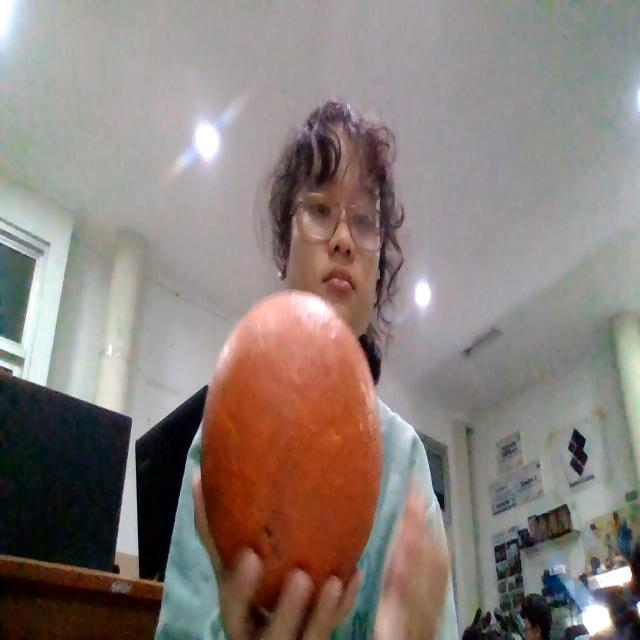ball: (199, 288, 383, 612)
